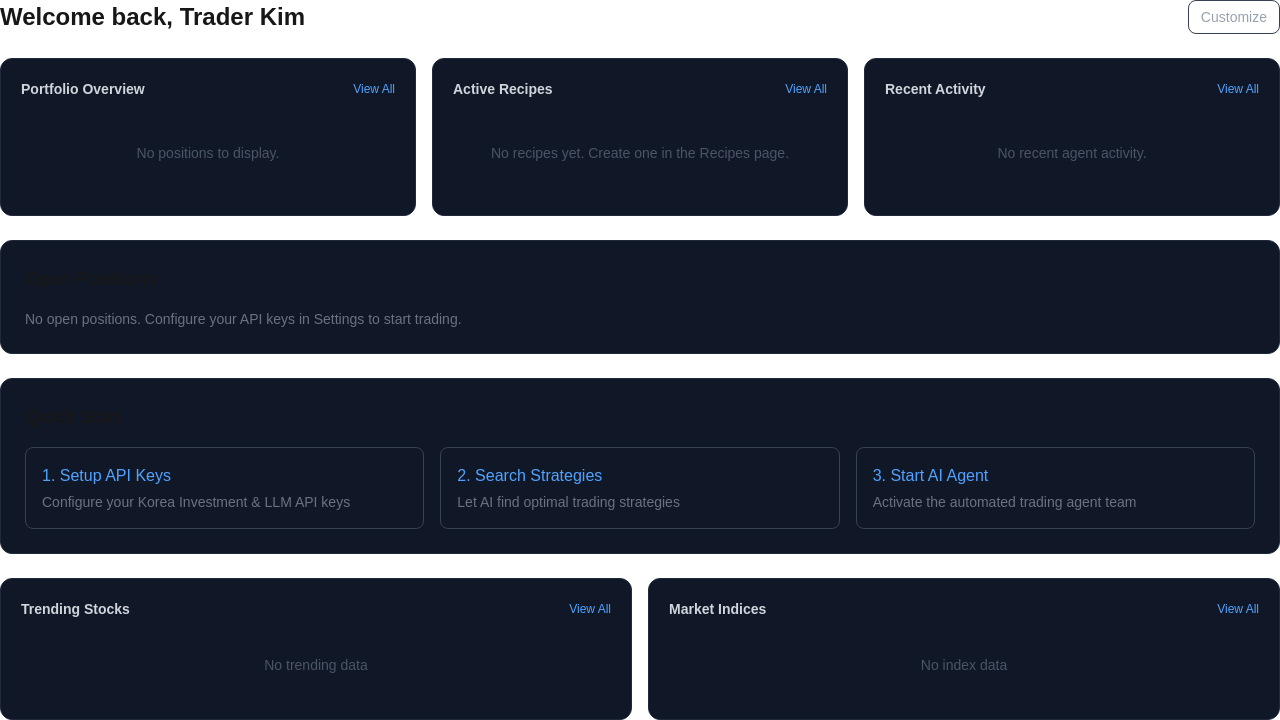
DashboardPage › resets to default on reset button click
Expected: the text "Total Balance" is not shown
Click the button with test id "customize-btn" at (1234, 17), box 1188,0 -> 1279,34
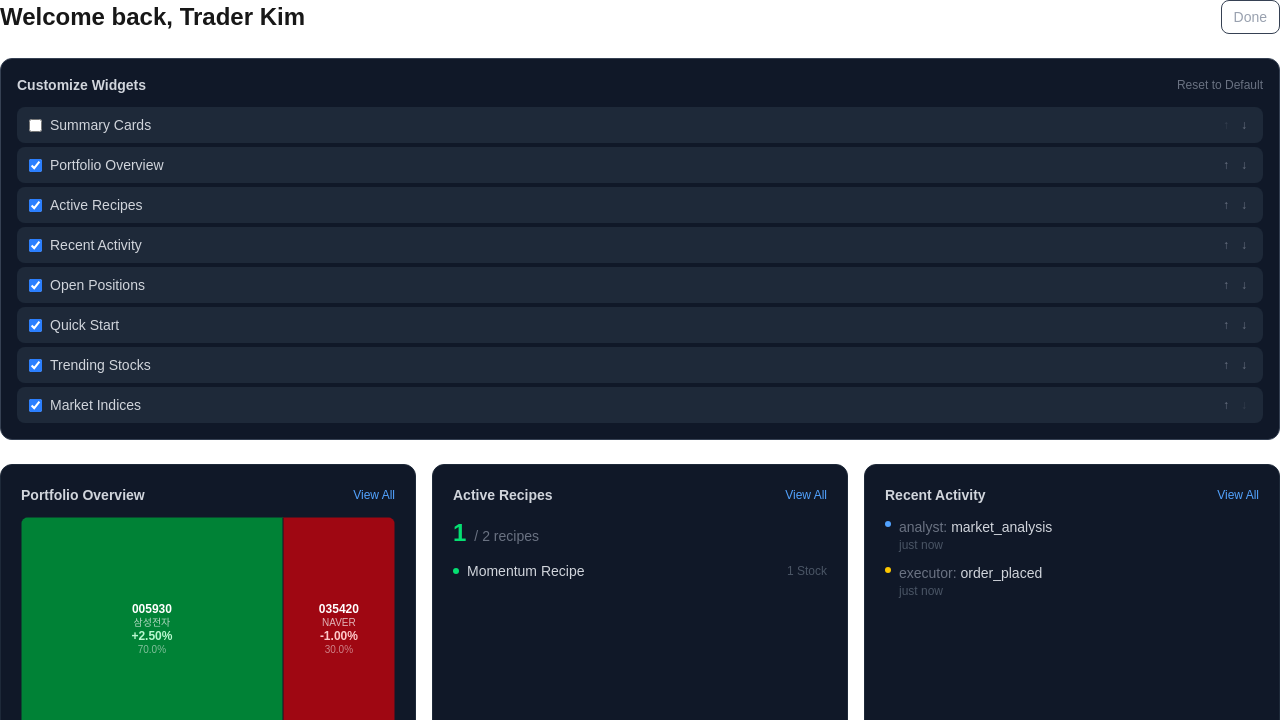
Click the button with test id "reset-btn" at (1220, 85), box 1177,77 -> 1263,93
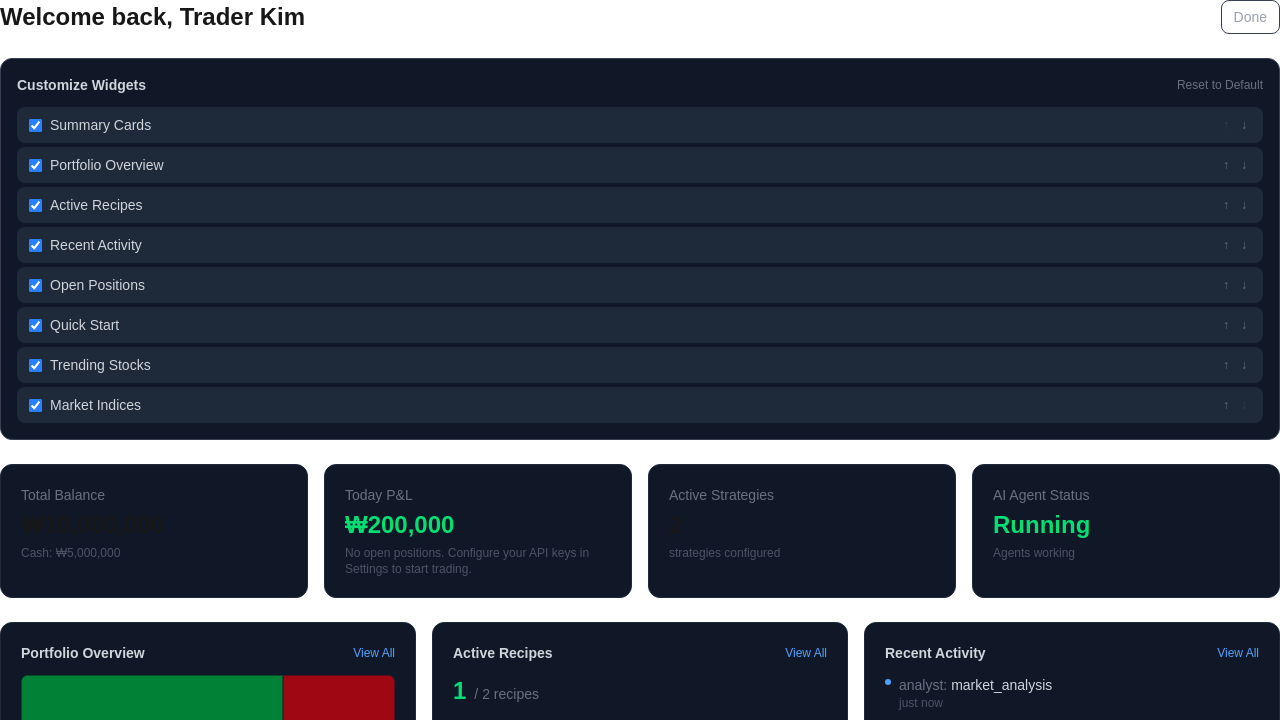
Expected: the text "Total Balance" is shown, 21,487 -> 105,503
